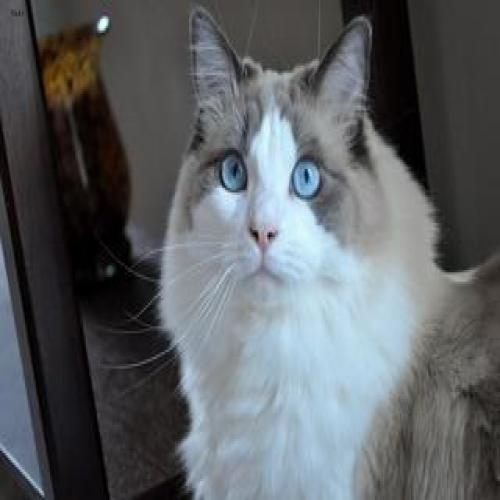ragdoll: (178, 1, 391, 343)
